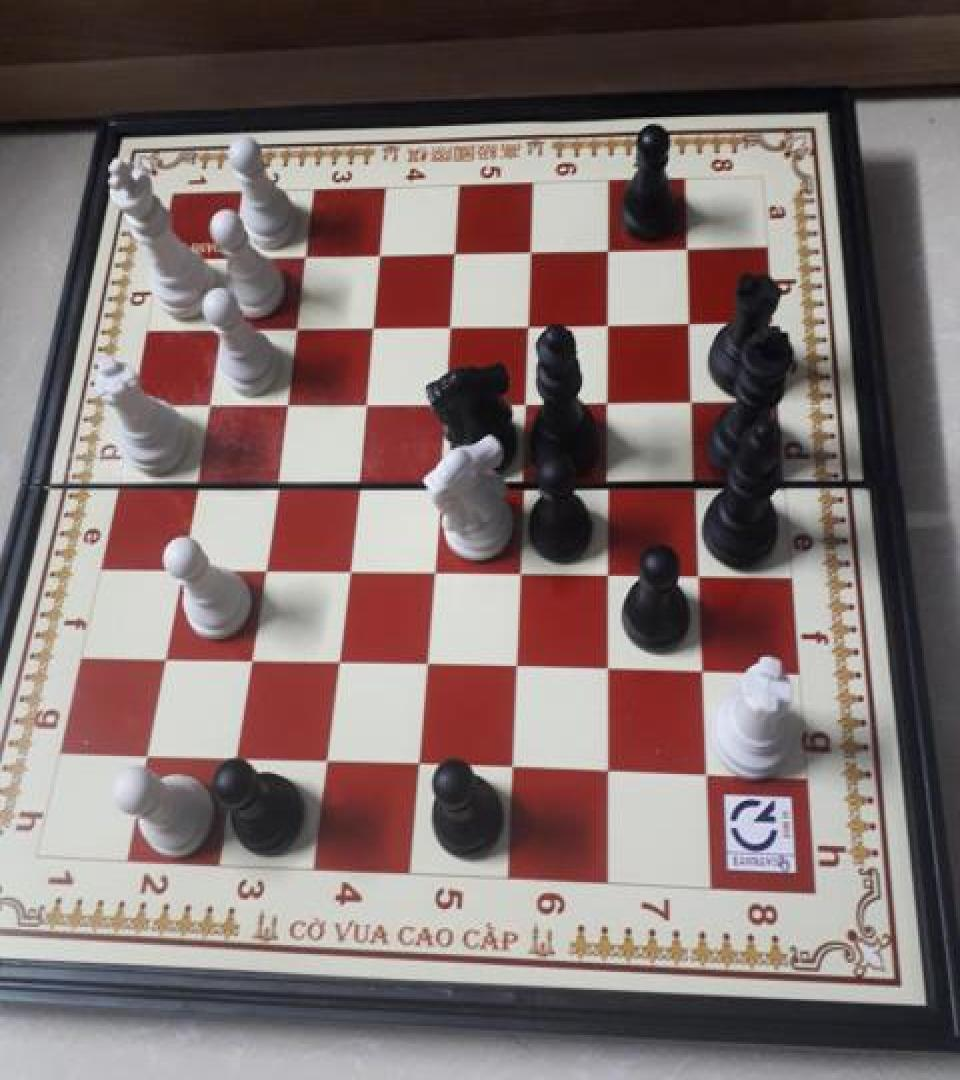xcorner: (594, 552, 626, 589), (165, 544, 197, 581), (132, 734, 164, 771), (673, 230, 705, 266), (595, 232, 627, 268), (517, 233, 549, 269), (441, 234, 473, 270), (366, 235, 398, 271), (292, 236, 324, 272), (219, 238, 251, 274), (676, 302, 708, 338), (594, 304, 626, 340), (515, 305, 547, 341), (436, 305, 468, 341), (358, 306, 390, 342), (282, 306, 314, 342), (207, 307, 239, 343), (678, 382, 710, 418), (594, 382, 626, 418), (512, 382, 544, 418), (430, 382, 462, 418), (350, 380, 382, 416), (272, 380, 304, 416), (194, 380, 226, 416), (681, 464, 713, 500), (594, 464, 626, 500), (508, 462, 540, 498), (424, 462, 456, 498), (342, 461, 374, 497), (260, 461, 292, 497), (180, 460, 212, 496), (684, 554, 716, 590), (505, 551, 537, 587), (418, 549, 450, 585), (332, 548, 364, 584), (248, 547, 280, 583), (687, 650, 719, 686), (593, 648, 625, 684), (501, 646, 533, 682), (411, 644, 443, 680), (322, 640, 354, 676), (235, 638, 267, 674), (149, 636, 181, 672), (691, 755, 723, 791), (593, 752, 625, 788), (497, 748, 529, 784), (403, 745, 435, 781), (311, 740, 343, 776), (221, 737, 253, 773)
